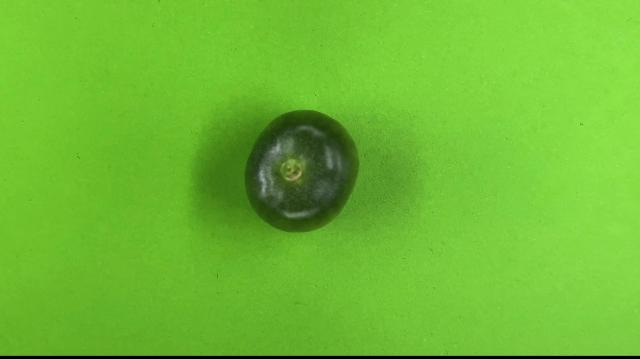Fruit Maturation: (243, 109, 361, 233)
